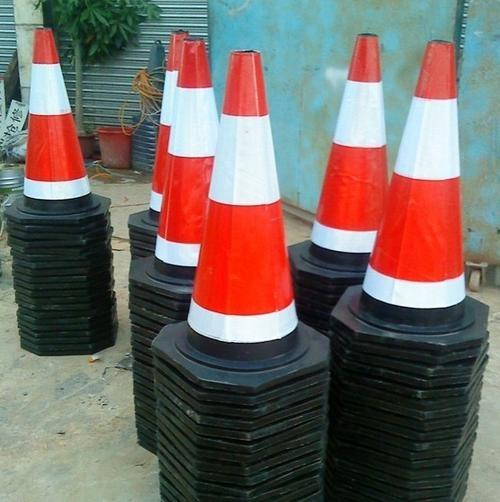cone_barrel: (180, 57, 309, 369), (354, 41, 476, 341), (300, 38, 394, 277), (144, 36, 224, 284), (13, 27, 97, 212)
